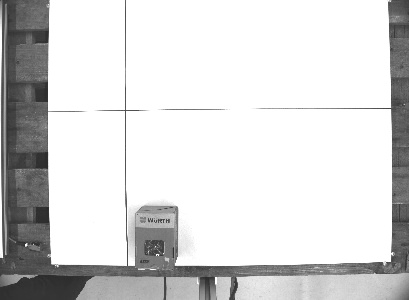b4: (133, 204, 181, 273)
